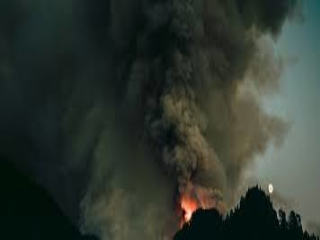fire: (172, 191, 198, 218)
smoke: (122, 5, 295, 183), (127, 67, 230, 181)
